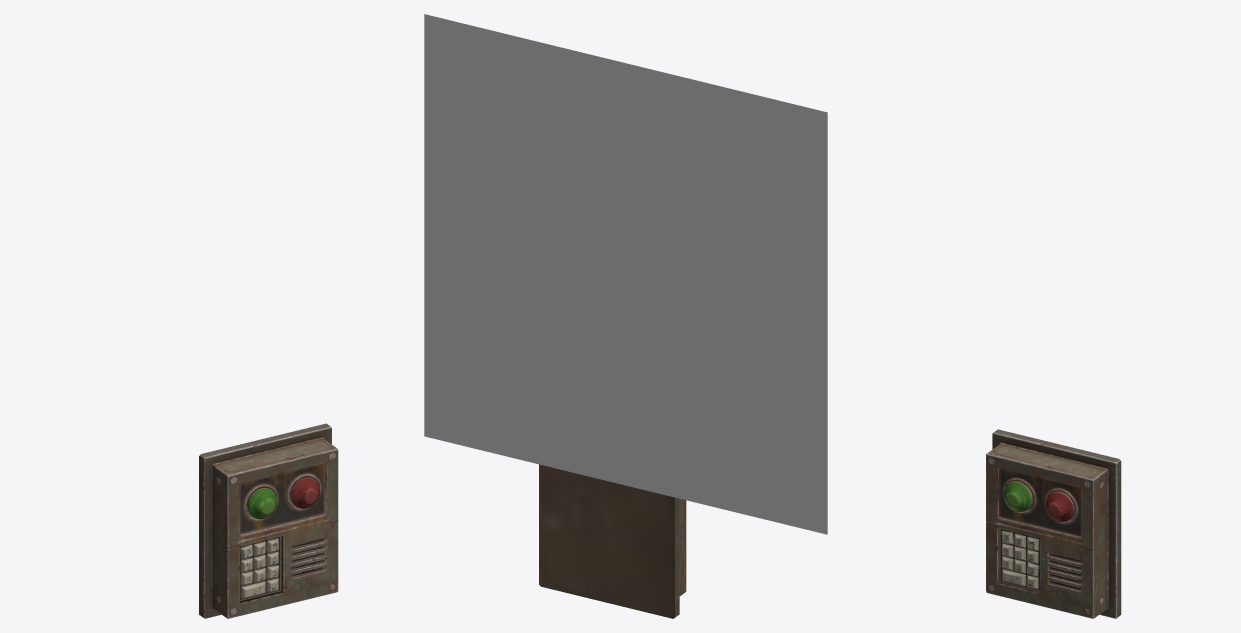
The model's file is vendingfront.glb.
The picture shows the model from 3 angles, left to right: view 1: azimuth 30°, elevation 25°; view 2: azimuth 150°, elevation 25°; view 3: azimuth 330°, elevation 25°; orthographic projection. The views are drawn at different scales.
Visible parts, largest first — view 1: keypad_LOD0; view 2: Quad, keypad_LOD0; view 3: keypad_LOD0.
Boxes of the visible parts, <box> form: keypad_LOD0: <box>199,423,338,618</box>; Quad: <box>424,14,827,534</box>; keypad_LOD0: <box>539,464,686,618</box>; keypad_LOD0: <box>986,429,1121,618</box>.
Bounding box in the file's own units: 0.65 × 0.8698 × 0.1389.
Materials: 2 (1 with a texture image).
